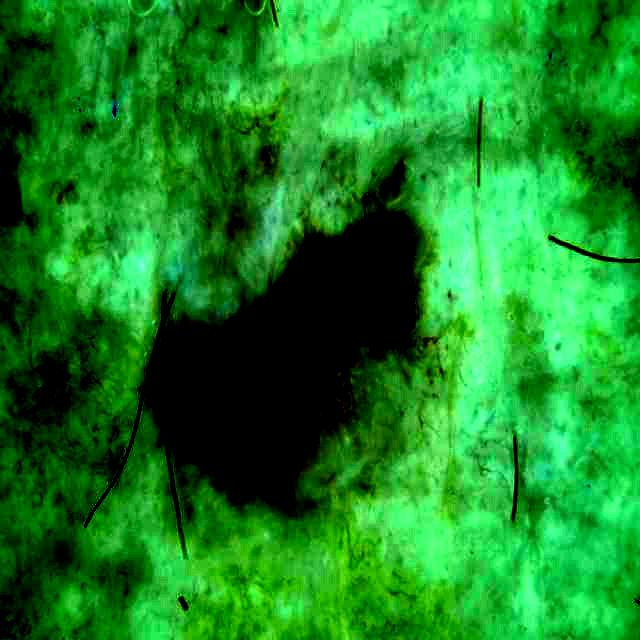BCC: (170, 212, 426, 501)
